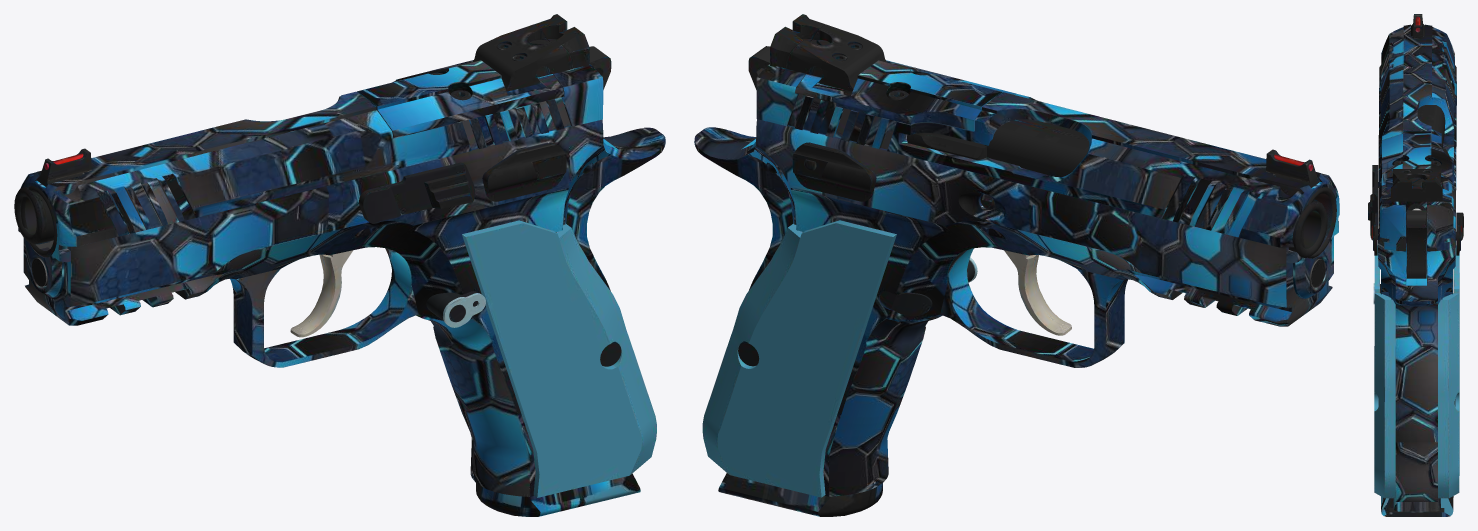
Rendered from weapon_czs-h.glb.
The picture shows the model from 3 angles, left to right: view 1: azimuth 30°, elevation 25°; view 2: azimuth 150°, elevation 25°; view 3: azimuth 270°, elevation 25°; orthographic projection. The views are drawn at different scales.
Visible parts, largest first — view 1: main_frame_czs-h, slide_czs-h, rear_sight_czs-h, magazine_czs-h, trigger_czs-h, barrel_czs-h, front_sight_czs-h; view 2: main_frame_czs-h, slide_czs-h, barrel_czs-h, rear_sight_czs-h, magazine_czs-h, trigger_czs-h, front_sight_czs-h; view 3: main_frame_czs-h, slide_czs-h, rear_sight_czs-h, hammer_czs-h, magazine_czs-h, barrel_czs-h, front_sight_czs-h.
Boxes of the visible parts, x1,y1,x2,y2 form: main_frame_czs-h: (23, 119, 665, 497); slide_czs-h: (18, 60, 603, 297); rear_sight_czs-h: (472, 14, 589, 91); magazine_czs-h: (476, 473, 640, 516); trigger_czs-h: (290, 250, 352, 337); barrel_czs-h: (14, 187, 53, 244); front_sight_czs-h: (37, 148, 91, 186); main_frame_czs-h: (694, 119, 1338, 497); slide_czs-h: (756, 60, 1339, 298); barrel_czs-h: (984, 119, 1327, 257); rear_sight_czs-h: (770, 14, 886, 91); magazine_czs-h: (718, 473, 882, 516); trigger_czs-h: (1004, 250, 1071, 335); front_sight_czs-h: (1266, 149, 1320, 187); main_frame_czs-h: (1368, 65, 1463, 501); slide_czs-h: (1380, 24, 1454, 250); rear_sight_czs-h: (1391, 169, 1442, 201); hammer_czs-h: (1407, 210, 1426, 278); magazine_czs-h: (1381, 496, 1453, 516); barrel_czs-h: (1417, 105, 1445, 148); front_sight_czs-h: (1411, 14, 1424, 38).
Bounding box in the file's own units: 25.83 × 18.29 × 4.97.
Materials: 1 (1 with a texture image).
